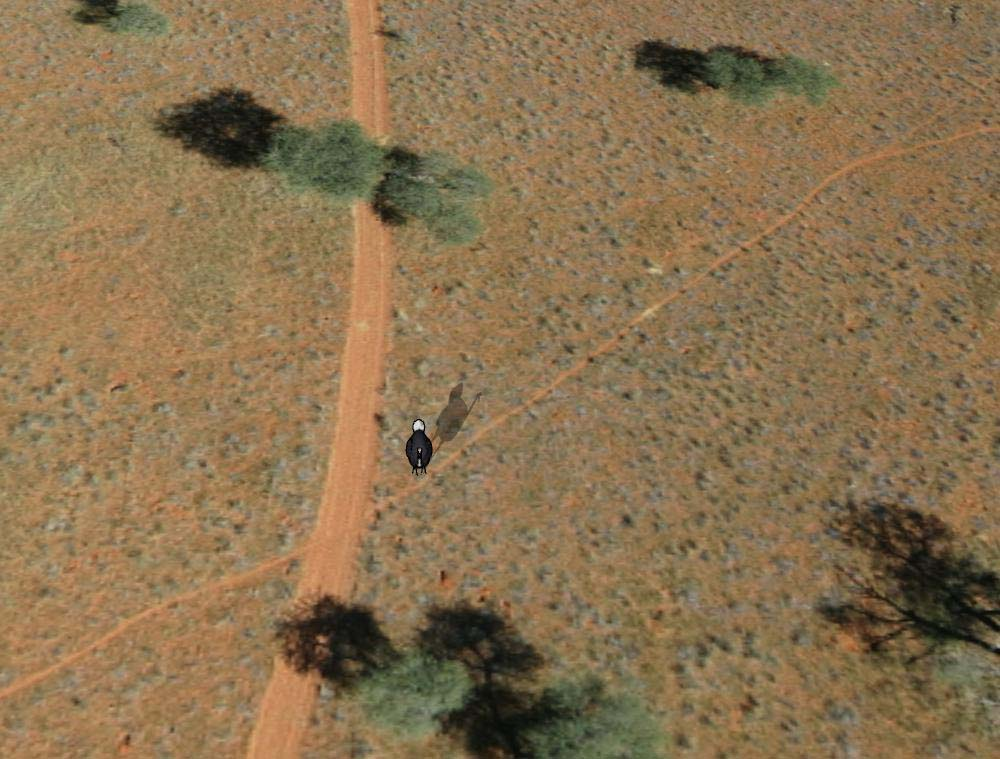springbok: (400, 413, 437, 481)
